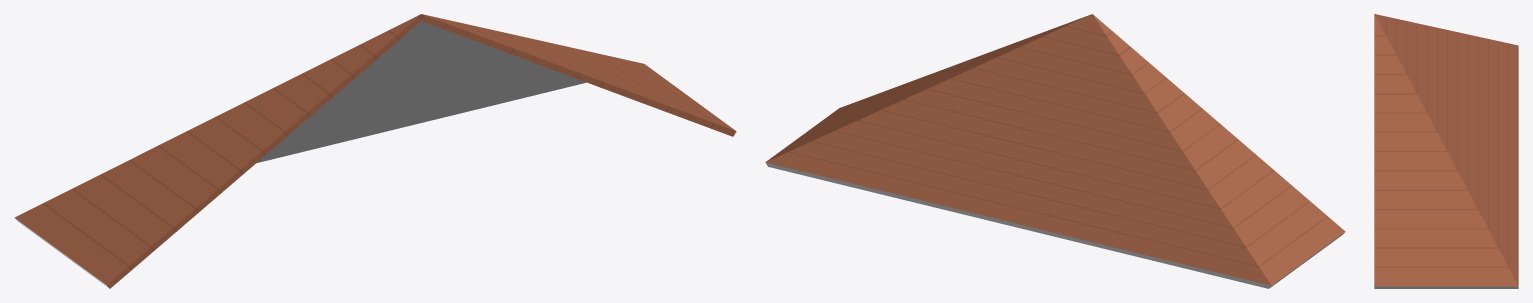
The model's file is Roof4_C5_02.fbx.
3 views of the same model, side by side, from view 1: azimuth 30°, elevation 25°; view 2: azimuth 150°, elevation 25°; view 3: azimuth 270°, elevation 25° (orthographic). The views are drawn at different scales.
Visible parts, largest first — view 1: Roof4_C5_02; view 2: Roof4_C5_02; view 3: Roof4_C5_02.
Part boxes in pixels (x1=…): Roof4_C5_02: x1=14, y1=14, x2=736, y2=288; Roof4_C5_02: x1=765, y1=14, x2=1345, y2=288; Roof4_C5_02: x1=1374, y1=14, x2=1518, y2=288.
Size of the model in its own units: 1105 by 333 by 280.
